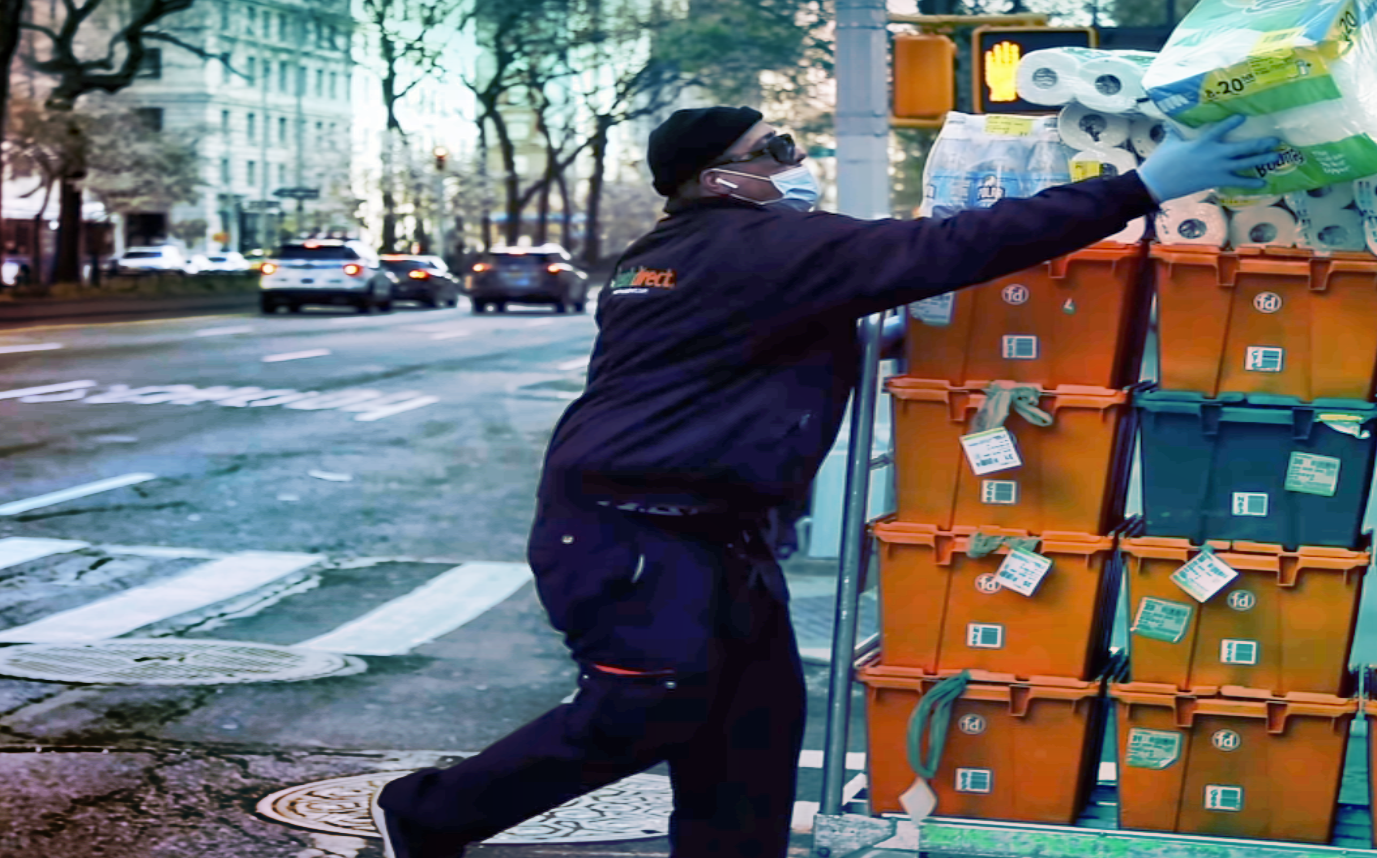mask_weared_incorrect: (649, 104, 822, 217)
